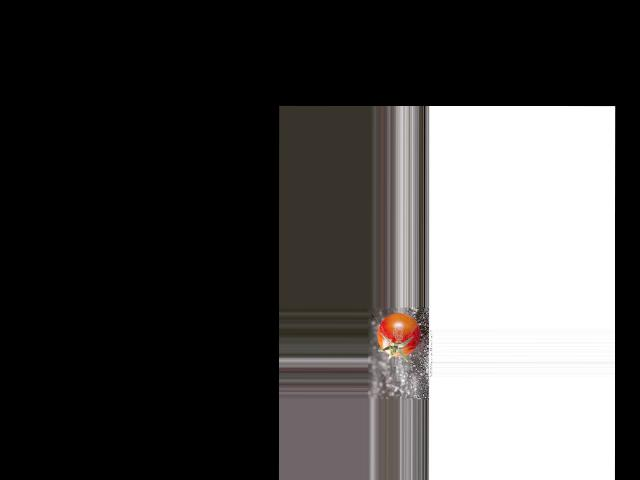tomato: (377, 313, 420, 357)
